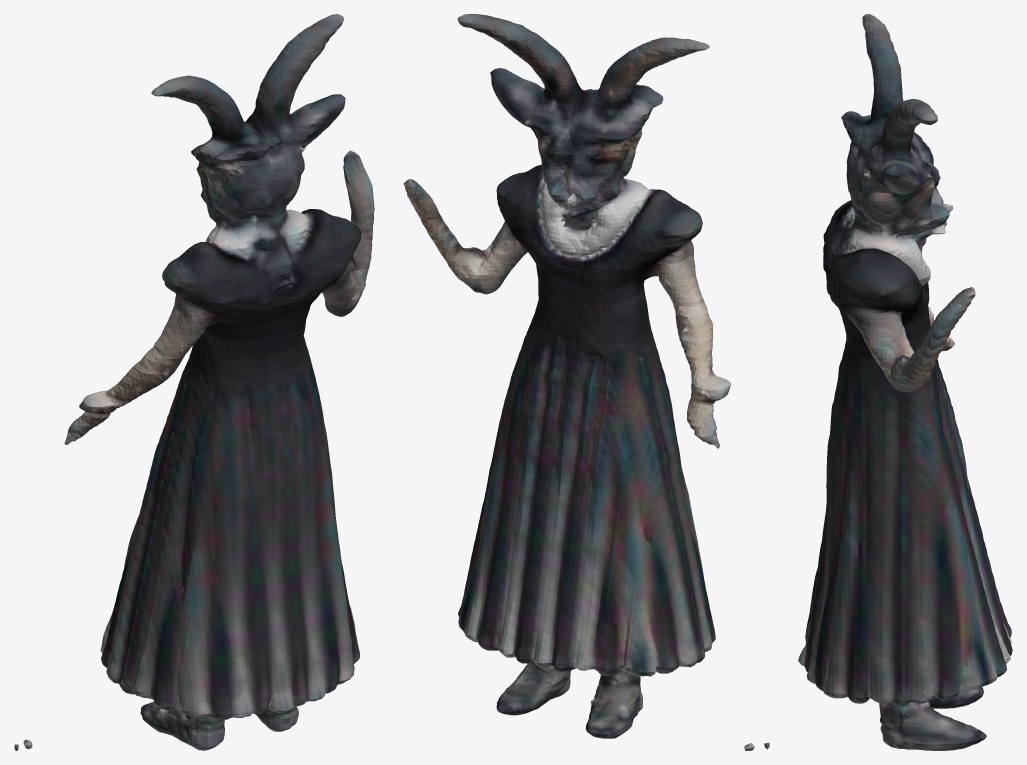
File: ghost_3d8.glb
3 renders of one model, left to right at view 1: azimuth 30°, elevation 25°; view 2: azimuth 150°, elevation 25°; view 3: azimuth 270°, elevation 25°, orthographic. The views are drawn at different scales.
Parts seen in each view (by area): view 1: world; view 2: world; view 3: world.
Part boxes in pixels (x1,y1,x2,y2): world: (14,14,374,750); world: (403,14,769,750); world: (798,14,1012,750).
Bounding box in the file's own units: 0.5457 × 0.9953 × 0.2892.
